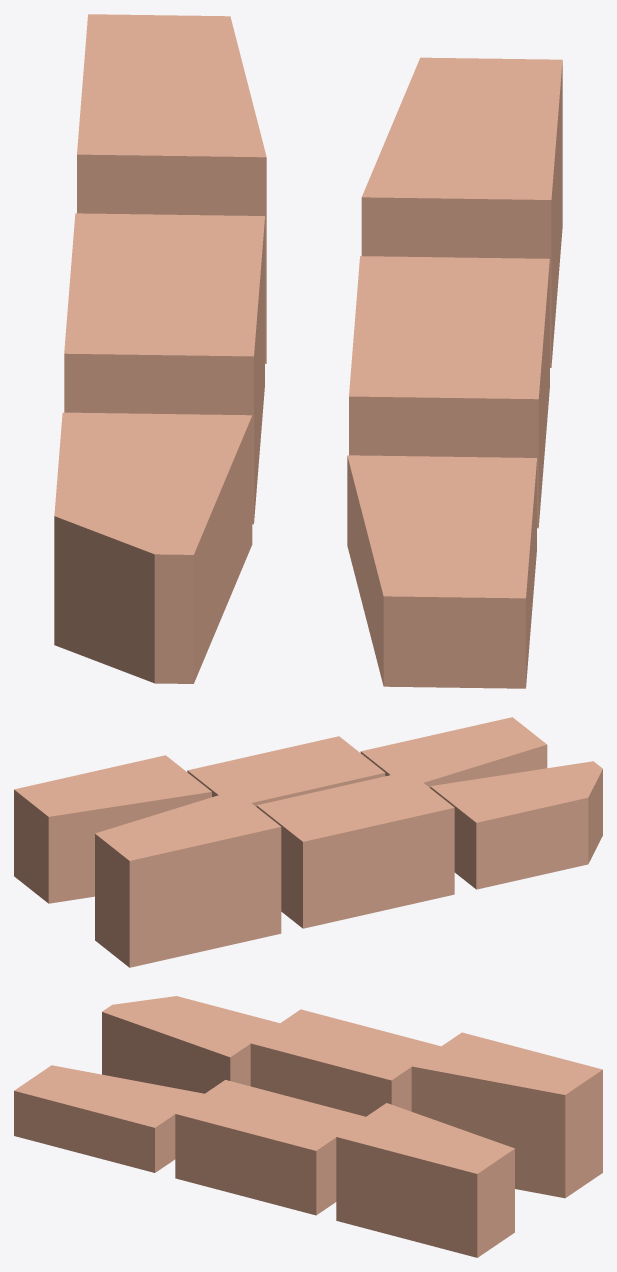
Rendered from buildings_v2-1579fd02fa06.glb.
The picture shows the model from 3 angles, top to bottom: view 1: azimuth 30°, elevation 25°; view 2: azimuth 150°, elevation 25°; view 3: azimuth 270°, elevation 25°; orthographic projection. The views are drawn at different scales.
Visible parts, largest first — view 1: mesh; view 2: mesh; view 3: mesh.
Part boxes in pixels (x1,y1,x2,y2): mesh: (54, 14, 562, 688); mesh: (14, 717, 602, 967); mesh: (14, 996, 602, 1257).
Bounding box in the file's own units: 197 × 48 × 248.
